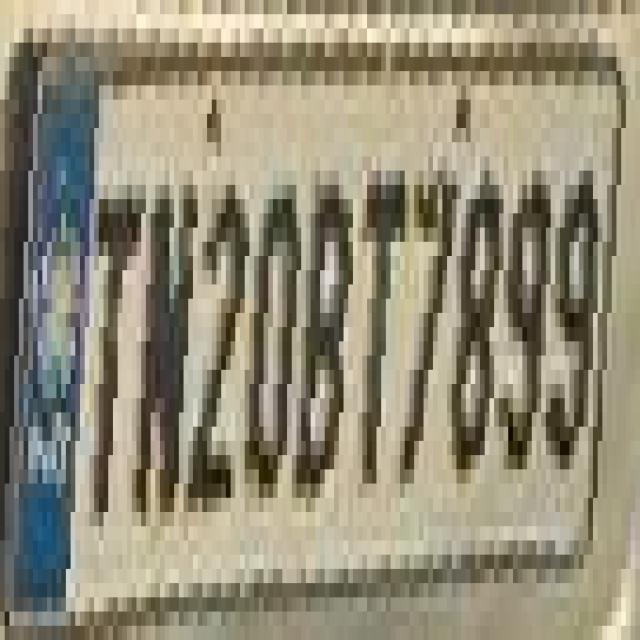license_plate: (0, 57, 607, 569)
